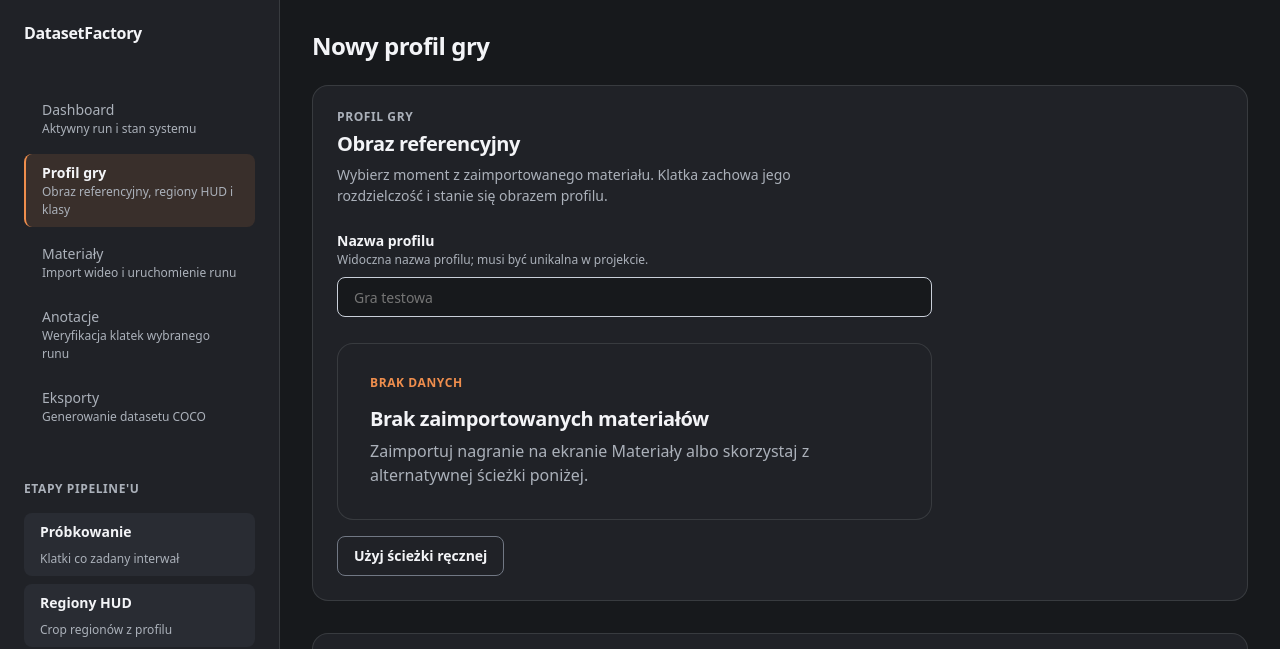
Test: creating a profile › rejects a relative path before it leaves the browser
The image size is (1280, 649).
Type "Gra" into the field labelled "Nazwa profilu". click: (634, 297)
box: 337,277 -> 932,317
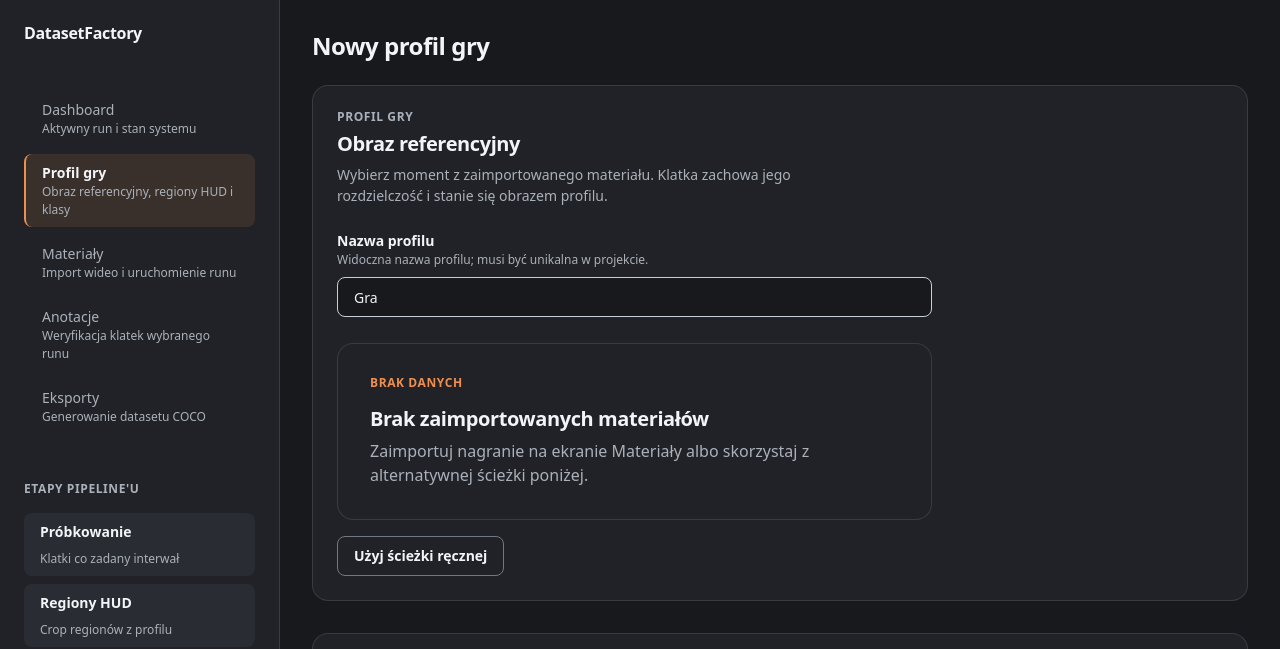
Click the button "Użyj ścieżki ręcznej". click: click(421, 556)
box: 337,536 -> 504,576
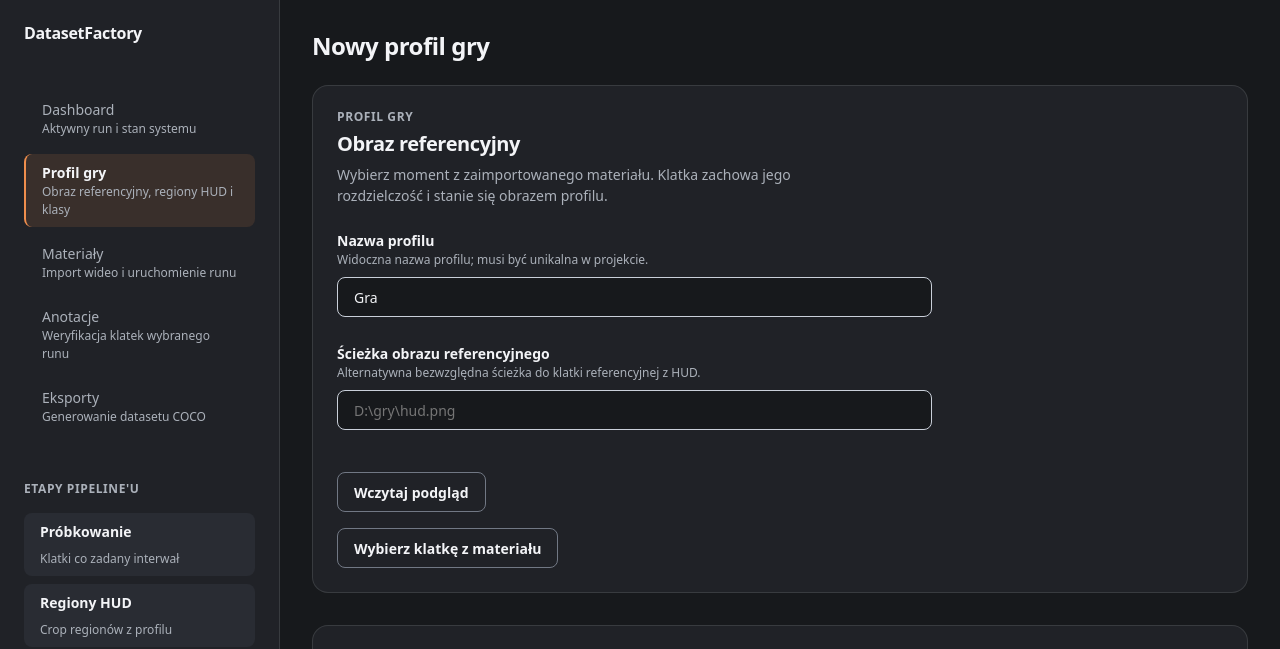
Type "gry\\hud.png" into the field labelled "Ścieżka obrazu referencyjnego". click: (634, 410)
box: 337,390 -> 932,430
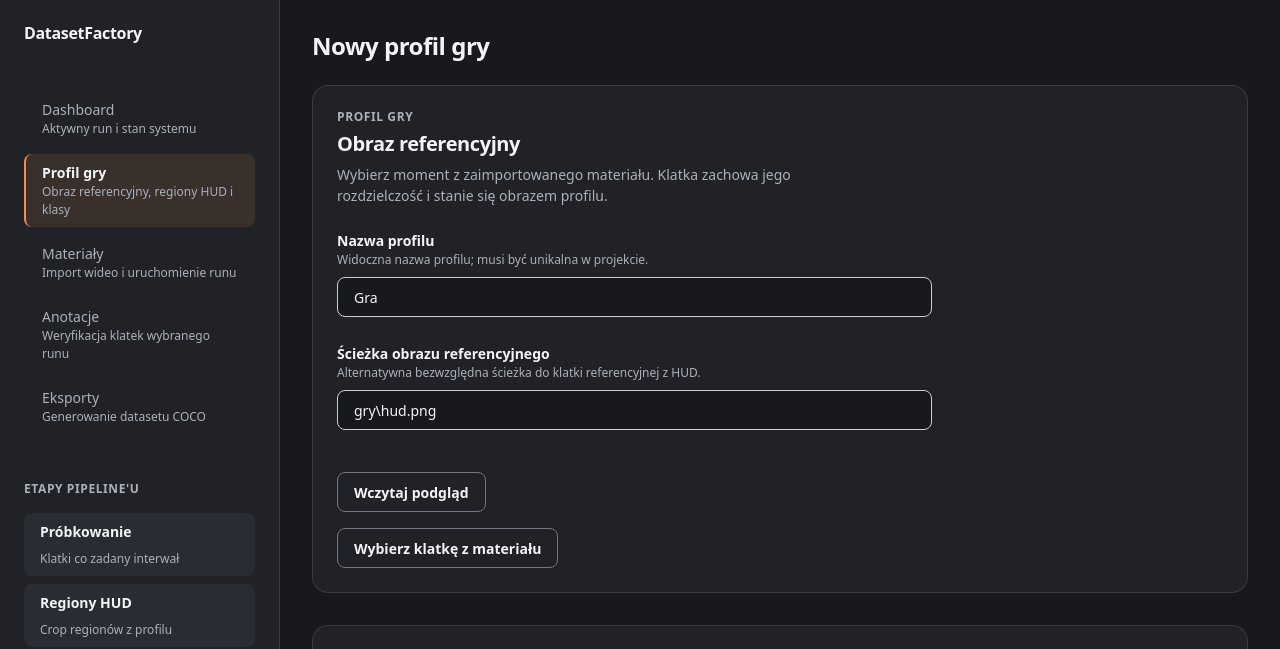
Click the button "Wczytaj podgląd". click: click(411, 492)
box: 337,472 -> 486,512
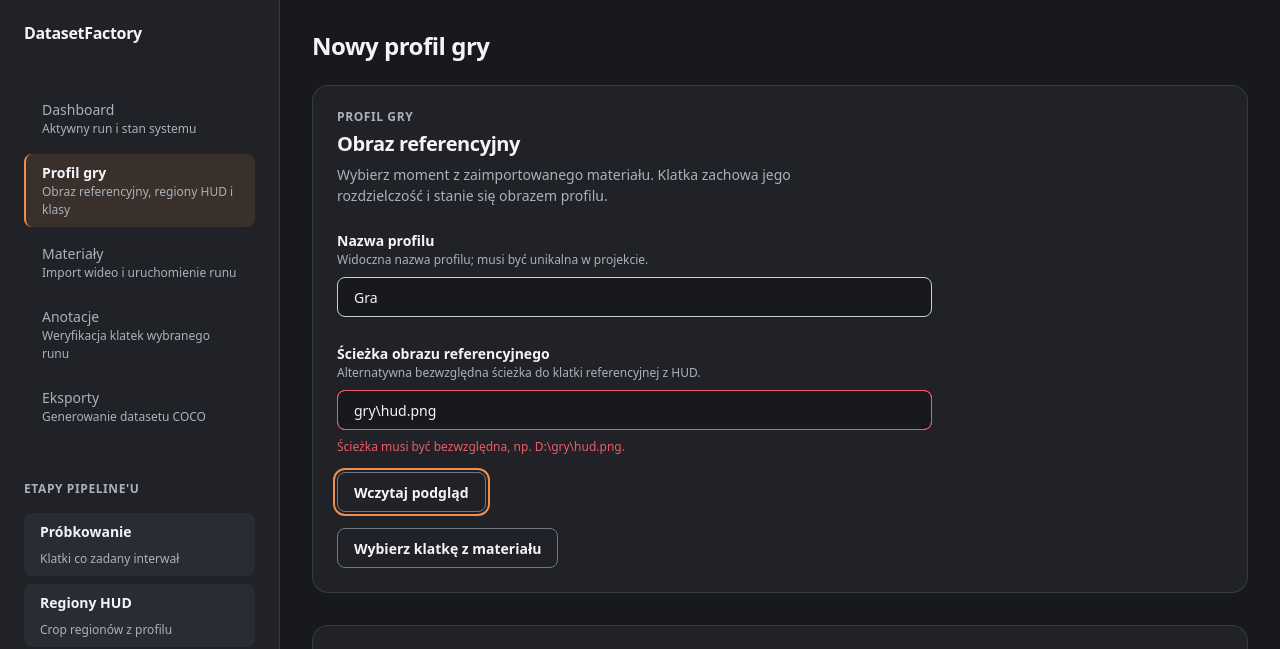
Now the text "Ścieżka musi być bezwzględna, np. D:\\gry\\hud.png." is shown, box 337,438 -> 625,455
